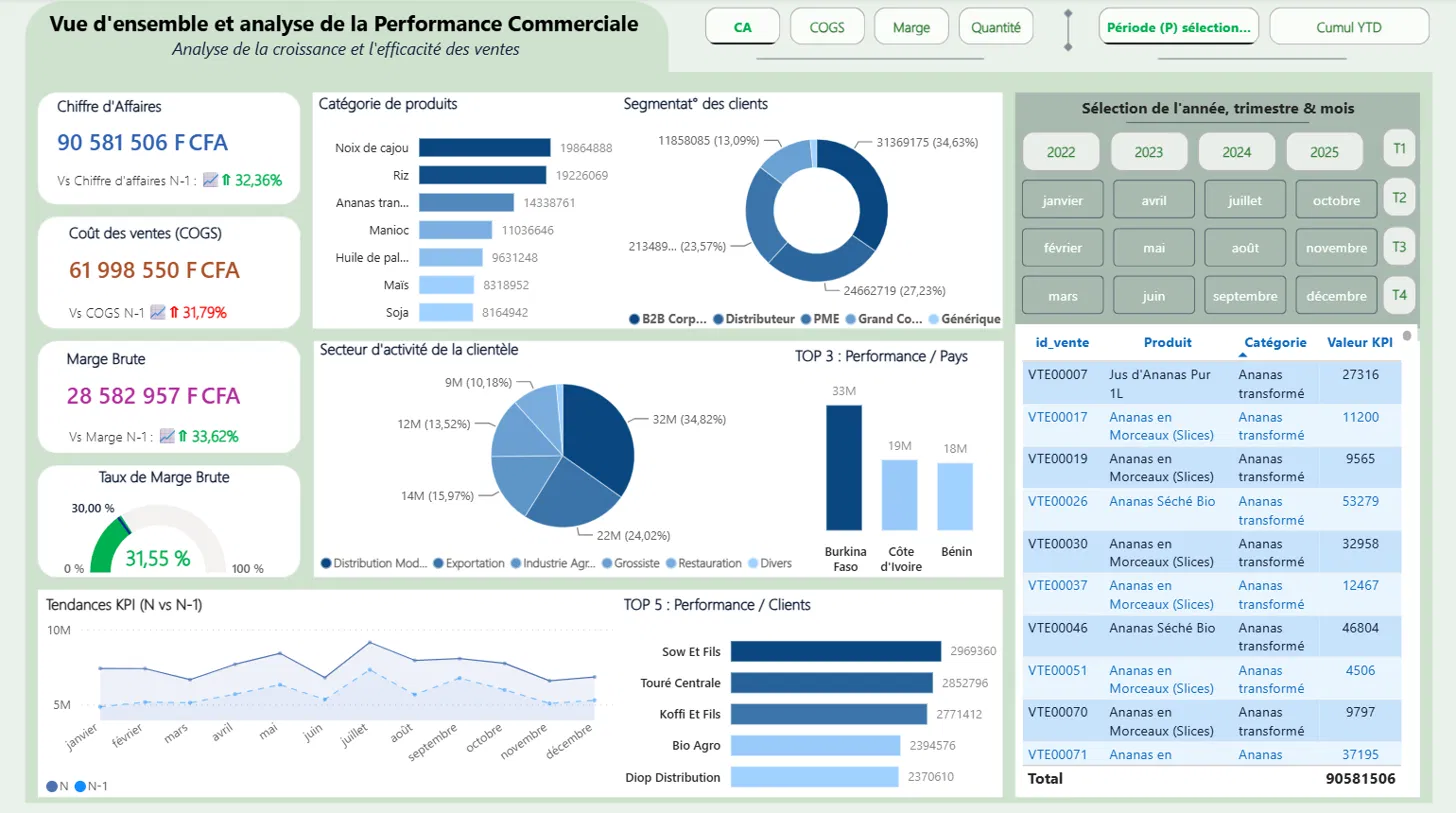

This screenshot's page, from the dashboard's own definition file:
{"tool":"powerbi","page":{"name":"1. Vue d'ensemble et Performance Commerciale","canvas":[1280,720],"ordinal":0},"visuals":[{"type":"cardVisual","title":"Chiffre d''affaires","fields":{"Data":["_Mesures.Chiffre d'Affaires"]},"box":[35.3,82.4,240,110.6],"z":0},{"type":"cardVisual","title":"Marge Brute","fields":{"Data":["_Mesures.Marge Brute"]},"box":[43,303.5,238.9,110],"z":1000},{"type":"advancedSlicerVisual","fields":{"Values":["_KPI1.KPI"]},"box":[614,3.5,300,43],"z":2000},{"type":"advancedSlicerVisual","fields":{"Values":["_Période d'analyse.Axe périodique"]},"box":[958.1,3.5,300,43],"z":3000},{"type":"clusteredBarChart","title":"Catégorie de produits","fields":{"Category":["produits.Hiérarchie Catégorie des Produits.categorie","produits.Hiérarchie Catégorie des Produits.produit"],"Y":["_Mesures Intermédiaires.KPI & Période"]},"box":[274.4,82.6,267.4,216.3],"z":4000},{"type":"advancedSlicerVisual","fields":{"Values":["Calendrier.Année"]},"box":[890.7,111.6,312.8,45.3],"z":5000},{"type":"advancedSlicerVisual","fields":{"Values":["Calendrier.Nom Mois"]},"box":[890.7,154.7,322.1,129.1],"z":6000},{"type":"donutChart","title":"Segmentat° des clients","fields":{"Category":["clients.type_client"],"Y":["_Mesures Intermédiaires.KPI & Période"]},"box":[541.9,82.6,348.8,216.3],"z":7000},{"type":"clusteredColumnChart","title":"TOP 3 : Performance / Pays","fields":{"Category":["clients.pays"],"Y":["_Mesures Intermédiaires.KPI & Période"]},"box":[691.9,303.5,188.4,210.5],"z":8000},{"type":"lineChart","title":"Tendances KPI (N vs N-1)","fields":{"Category":["Calendrier.Nom Mois"],"Y":["_Mesures Intermédiaires.KPI & Période","_Mesures Intermédiaires.KPI n-1 & Période"]},"box":[35.3,522.4,507.1,187.1],"z":9000},{"type":"cardVisual","title":"Marge Brute","fields":{"Data":["_Mesures.COGS"]},"box":[43,190.7,238.8,120],"z":10000},{"type":"gauge","title":"Taux de Marge Brute","fields":{"MaxValue":["_Mesures.Taux Max"],"MinValue":["_Mesures.Taux min"],"TargetValue":["_Mesures.Taux de Marge Cible"],"Y":["_Mesures.Taux de Marge"]},"box":[34.9,410.5,217.4,103.5],"z":11000},{"type":"tableEx","fields":{"Values":["ventes.id_vente","produits.produit","produits.categorie","_Mesures Intermédiaires.KPI & Période"]},"box":[890.6,285.9,352.9,414.1],"z":12000},{"type":"pieChart","title":"Secteur d''activité de la clientèle","fields":{"Category":["clients.secteur_activite"],"Y":["_Mesures Intermédiaires.KPI & Période"]},"box":[275.6,298.8,436,215.1],"z":13000},{"type":"clusteredBarChart","title":"TOP 5 : Performance / Clients","fields":{"Category":["clients.nom_client"],"Y":["_Mesures Intermédiaires.KPI & Période"]},"box":[542.4,522.4,337.6,187.1],"z":14000},{"type":"textbox","box":[16.3,4.7,569.8,77.9],"z":15000},{"type":"textbox","box":[931.4,81.4,273.3,30.2],"z":16000},{"type":"shape","box":[987.2,97.7,160.5,23.3],"z":17000},{"type":"advancedSlicerVisual","fields":{"Values":["Calendrier.Trimestre"]},"box":[1207,109.3,40.7,177.9],"z":18000}]}

Visuals, with their boxes in screenshot pixels (x1, y1, x2, y2), scaled from the page's 1280x720 canvas onto the 1456x813 screenshot:
"Chiffre d''affaires" cardVisual: {"x1": 40, "y1": 93, "x2": 313, "y2": 218}
"Marge Brute" cardVisual: {"x1": 49, "y1": 343, "x2": 321, "y2": 467}
advancedSlicerVisual - _KPI1.KPI: {"x1": 698, "y1": 4, "x2": 1040, "y2": 53}
advancedSlicerVisual - _Période d'analyse.Axe périodique: {"x1": 1090, "y1": 4, "x2": 1431, "y2": 53}
"Catégorie de produits" clusteredBarChart: {"x1": 312, "y1": 93, "x2": 616, "y2": 338}
advancedSlicerVisual - Calendrier.Année: {"x1": 1013, "y1": 126, "x2": 1369, "y2": 177}
advancedSlicerVisual - Calendrier.Nom Mois: {"x1": 1013, "y1": 175, "x2": 1380, "y2": 320}
"Segmentat° des clients" donutChart: {"x1": 616, "y1": 93, "x2": 1013, "y2": 338}
"TOP 3 : Performance / Pays" clusteredColumnChart: {"x1": 787, "y1": 343, "x2": 1001, "y2": 580}
"Tendances KPI (N vs N-1)" lineChart: {"x1": 40, "y1": 590, "x2": 617, "y2": 801}
"Marge Brute" cardVisual: {"x1": 49, "y1": 215, "x2": 321, "y2": 351}
"Taux de Marge Brute" gauge: {"x1": 40, "y1": 464, "x2": 287, "y2": 580}
tableEx - ventes.id_vente x produits.produit: {"x1": 1013, "y1": 323, "x2": 1414, "y2": 790}
"Secteur d''activité de la clientèle" pieChart: {"x1": 313, "y1": 337, "x2": 809, "y2": 580}
"TOP 5 : Performance / Clients" clusteredBarChart: {"x1": 617, "y1": 590, "x2": 1001, "y2": 801}
textbox: {"x1": 19, "y1": 5, "x2": 667, "y2": 93}
textbox: {"x1": 1059, "y1": 92, "x2": 1370, "y2": 126}
shape: {"x1": 1123, "y1": 110, "x2": 1306, "y2": 137}
advancedSlicerVisual - Calendrier.Trimestre: {"x1": 1373, "y1": 123, "x2": 1419, "y2": 324}
